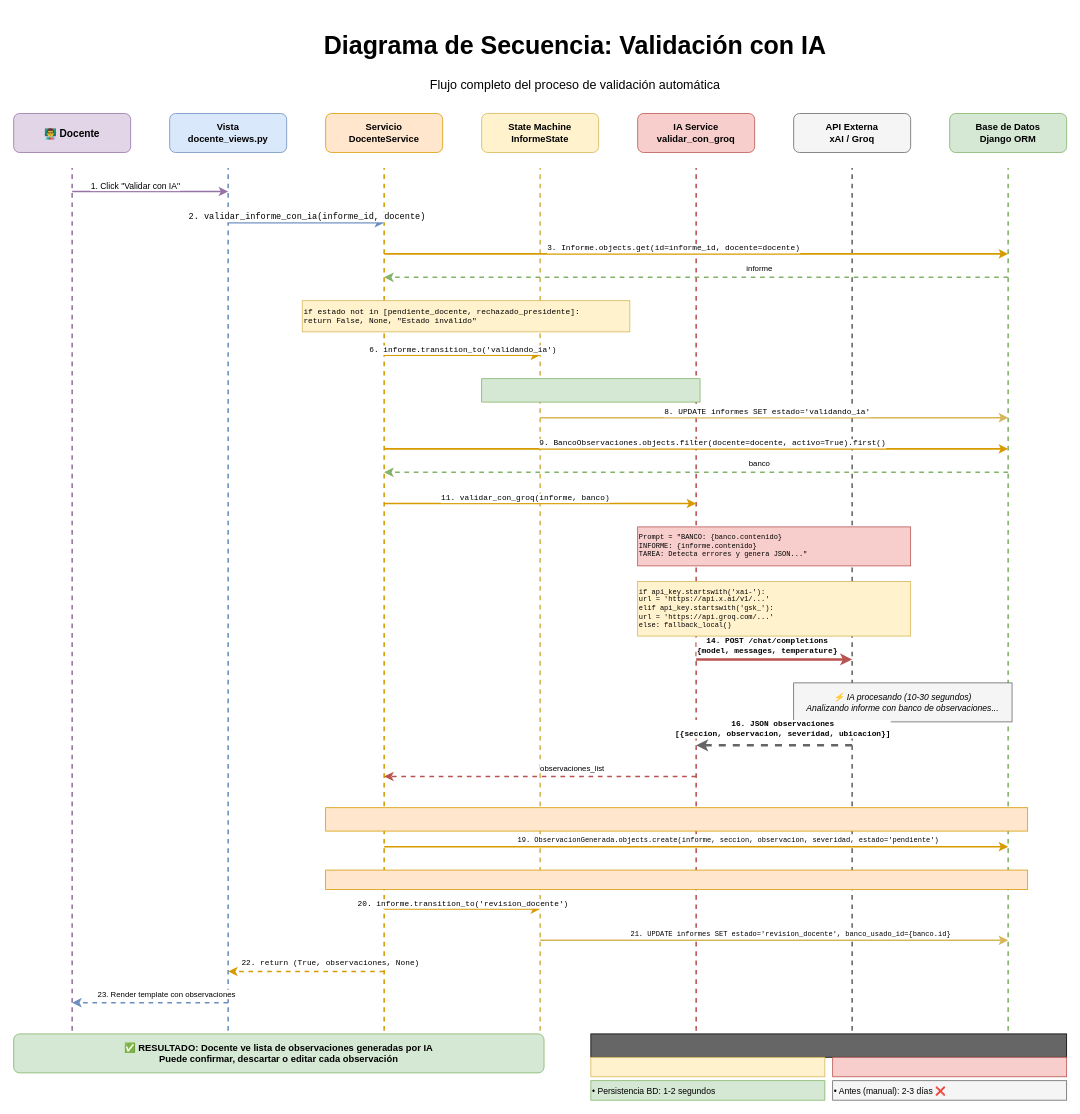
This 1080x1114 diagram has some shape labels left out. The box of each missing label's shape, as (x1, y1, x2, y2) in pixels:
END LOOP: (325, 869, 1028, 890)
LOOP [for obs in observaciones_list]: (325, 807, 1028, 831)
• Llamada a IA: 8-25 segundos: (832, 1057, 1067, 1077)
• Tiempo total: 10-30 segundos: (590, 1057, 825, 1077)
⏱️ MÉTRICAS DE RENDIMIENTO: (590, 1033, 1067, 1057)
✅ Valida: pendiente_docente → validando_ia: (481, 378, 700, 402)
